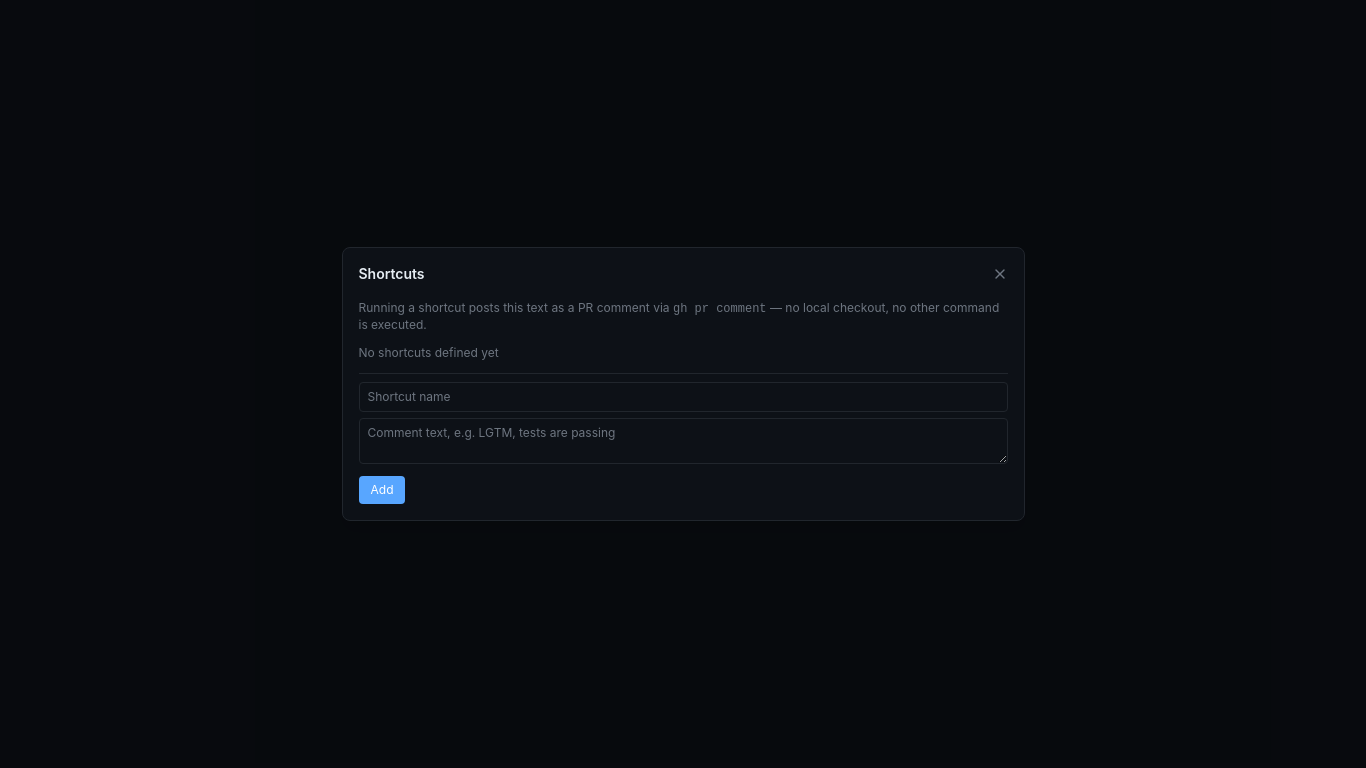
Test: ShortcutsManagerModal › adding a shortcut appends a row
In the field with placeholder "Shortcut name": (683, 397) 358,382 -> 1008,412, type "hello"
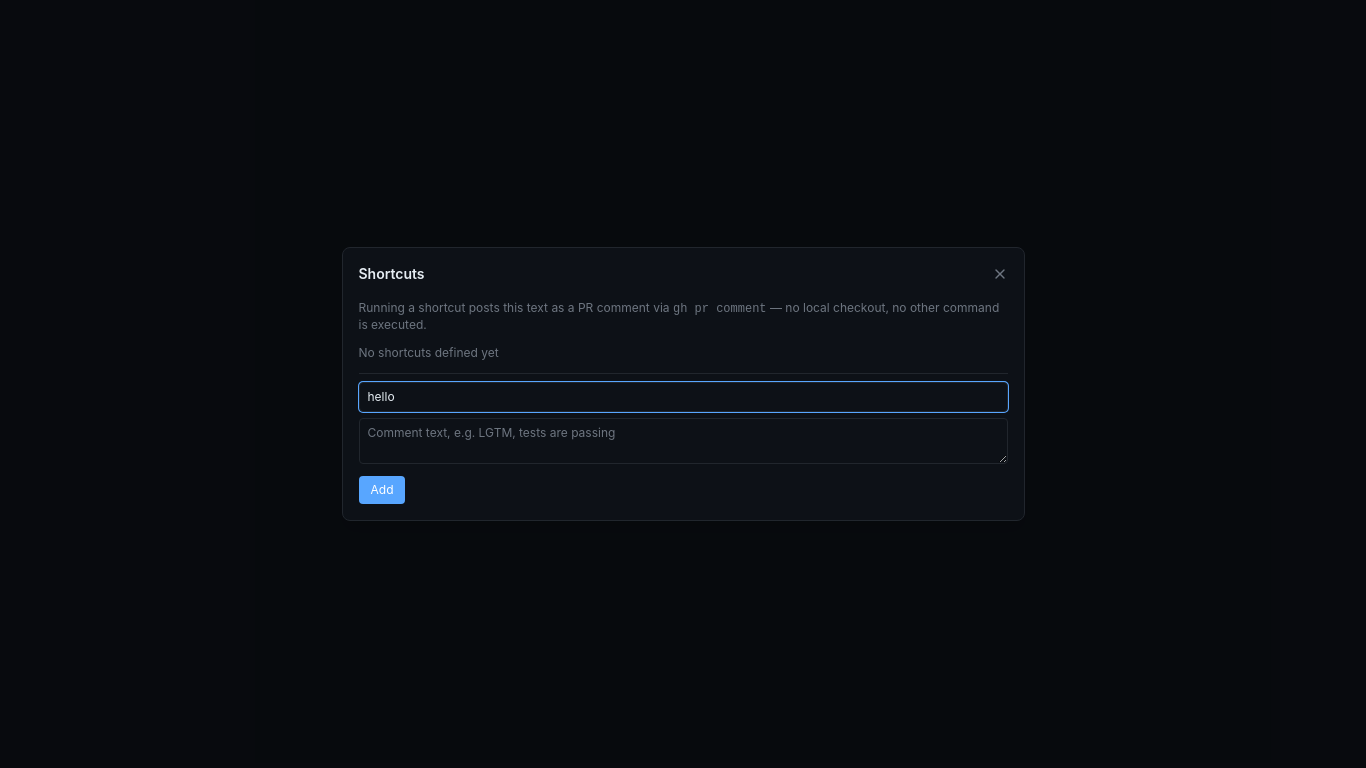
In the text box with placeholder "Comment text, e.g. LGTM, tests are passing": (683, 441) 358,418 -> 1008,464, type "LGTM"
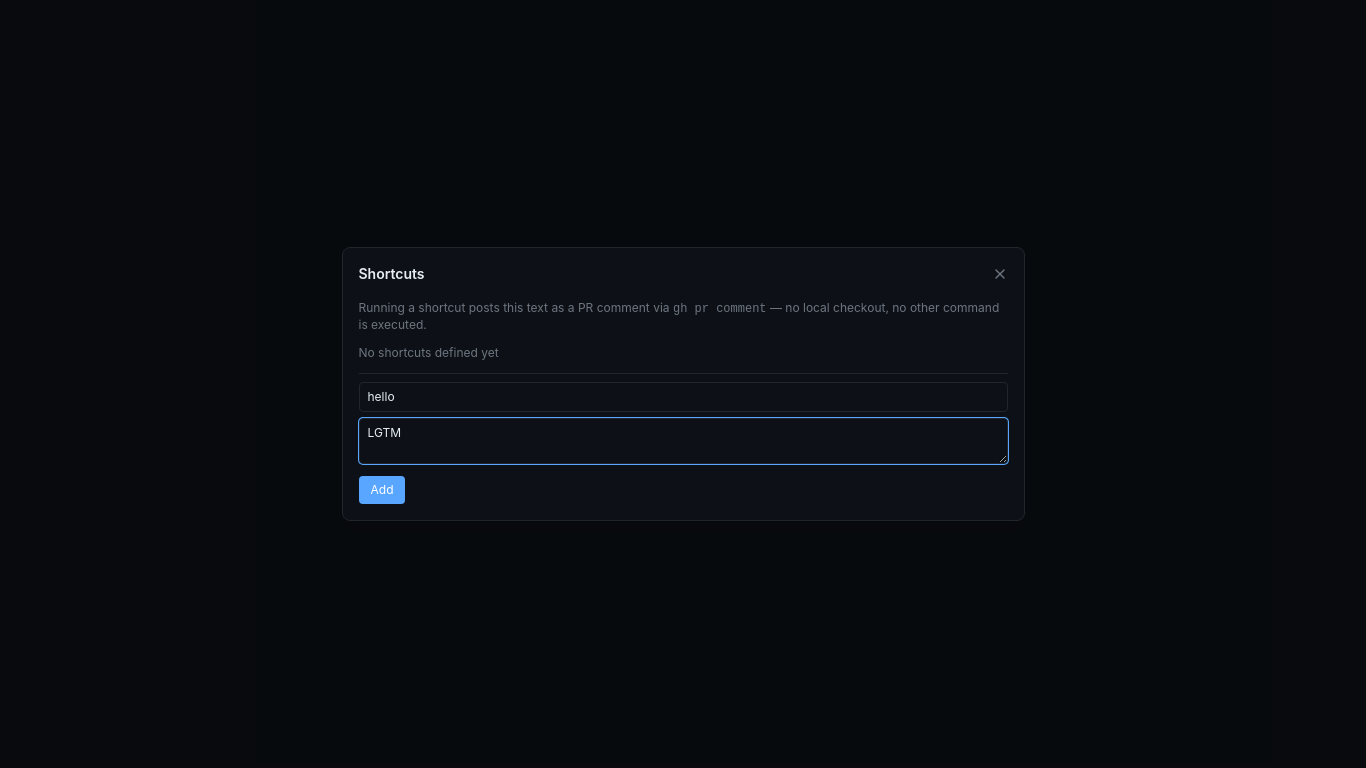
Click the button "Add": (382, 490) 358,476 -> 406,504
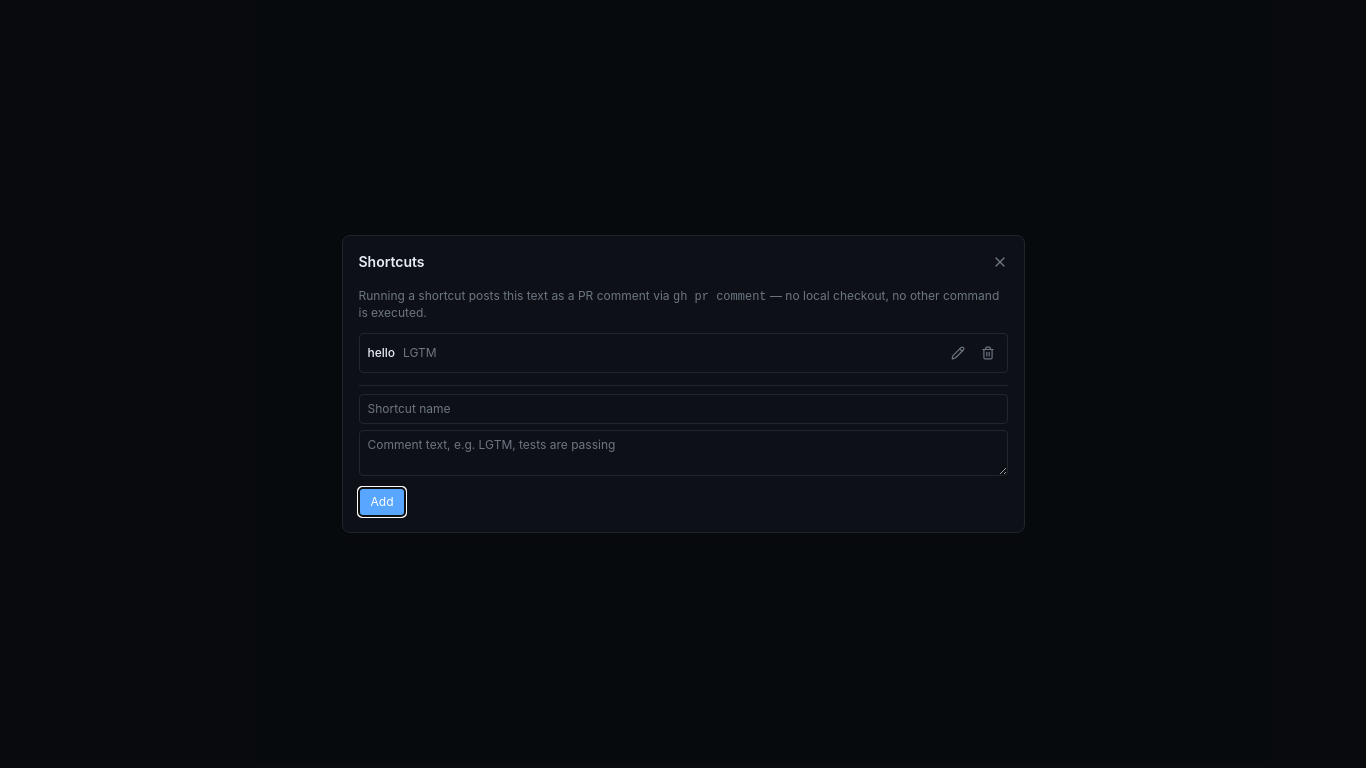
Check: the text "hello" is shown, box 368,345 -> 395,361
